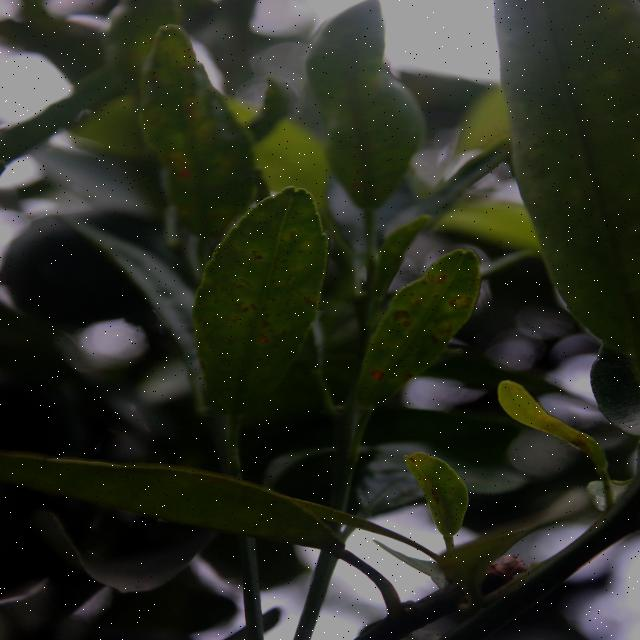canker: (194, 208, 328, 394), (356, 265, 490, 398)
